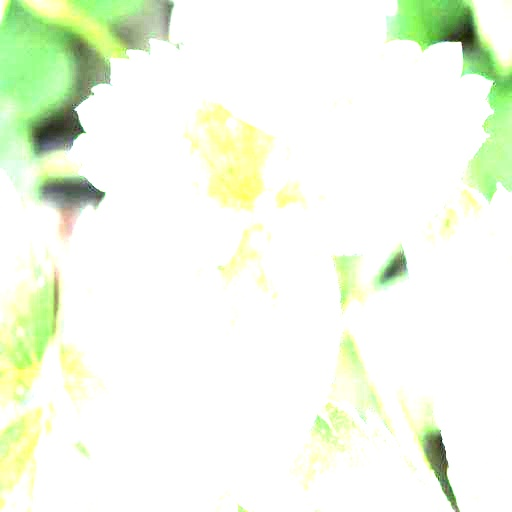Powdery Mildew Leaf: (167, 205, 342, 511), (250, 39, 496, 256), (68, 39, 294, 264), (402, 179, 511, 511)
